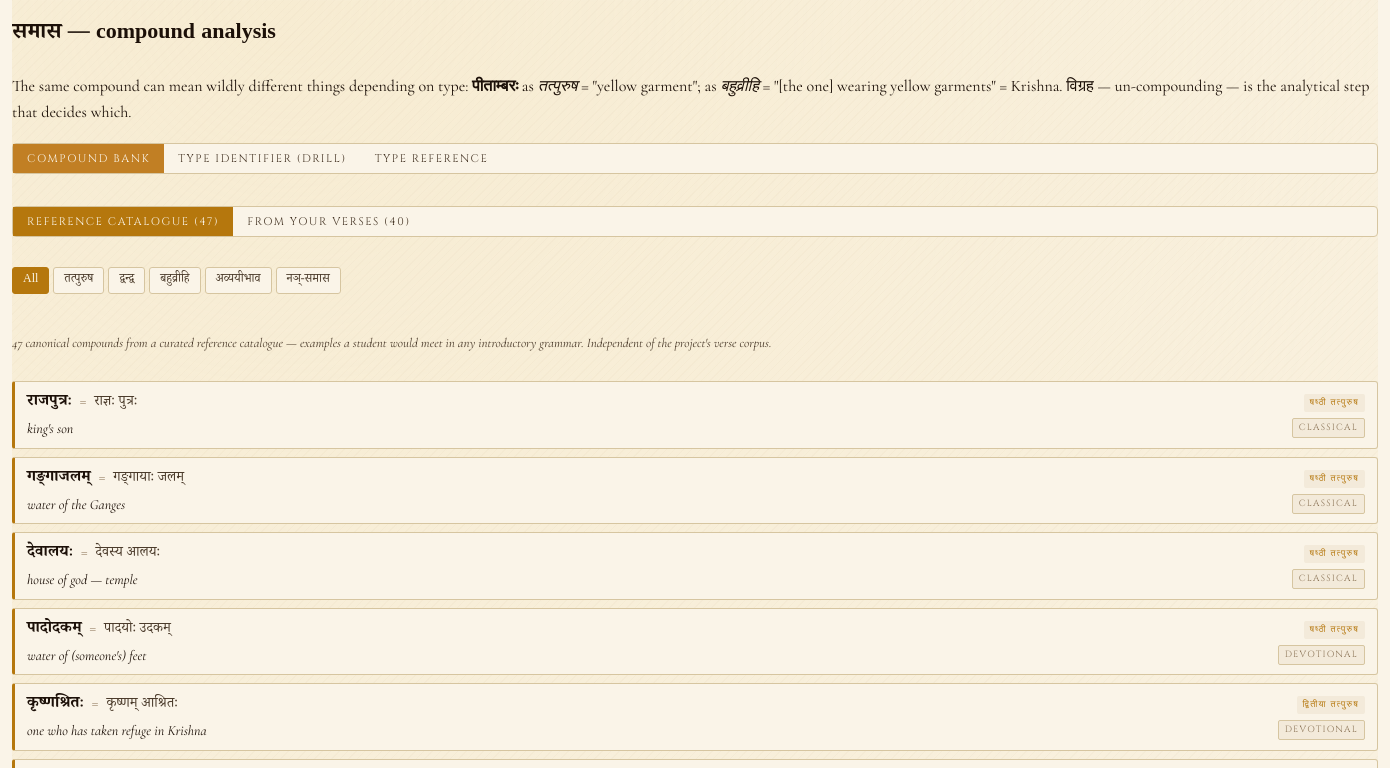
Scenario: Samasa — Type Identifier drill › picking the correct type marks .is-correct and increments score
This screenshot has width=1390, height=768.
Click the button "Type identifier (drill)" at point(262, 159), box [164, 144, 361, 173]
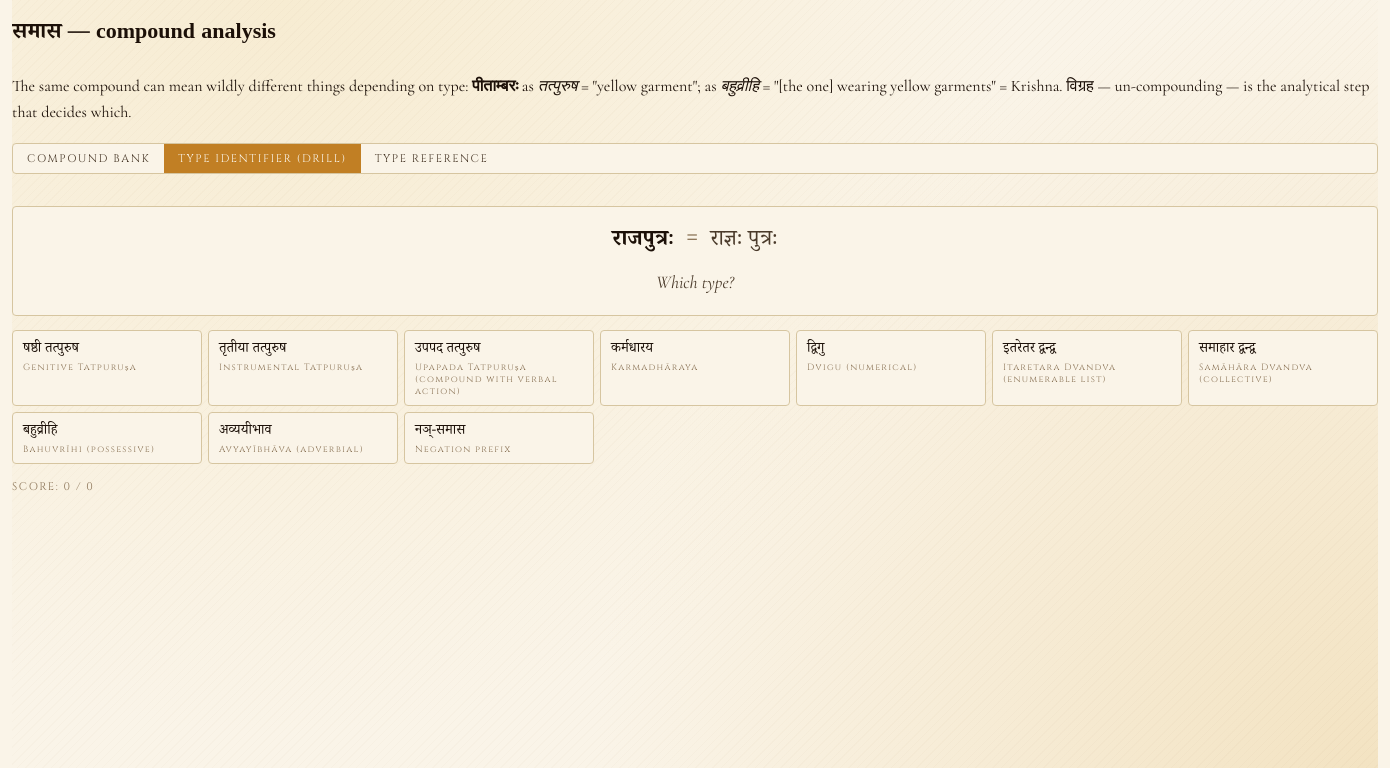
Now the text "Score: 0 / 0" is shown, box [12, 479, 94, 494]
Now the button with class "drill-option" that starts with "षष्ठी तत्पुरुष" is shown
Click the button with class "drill-option" that starts with "षष्ठी तत्पुरुष" at point(107, 368), box [12, 330, 202, 406]
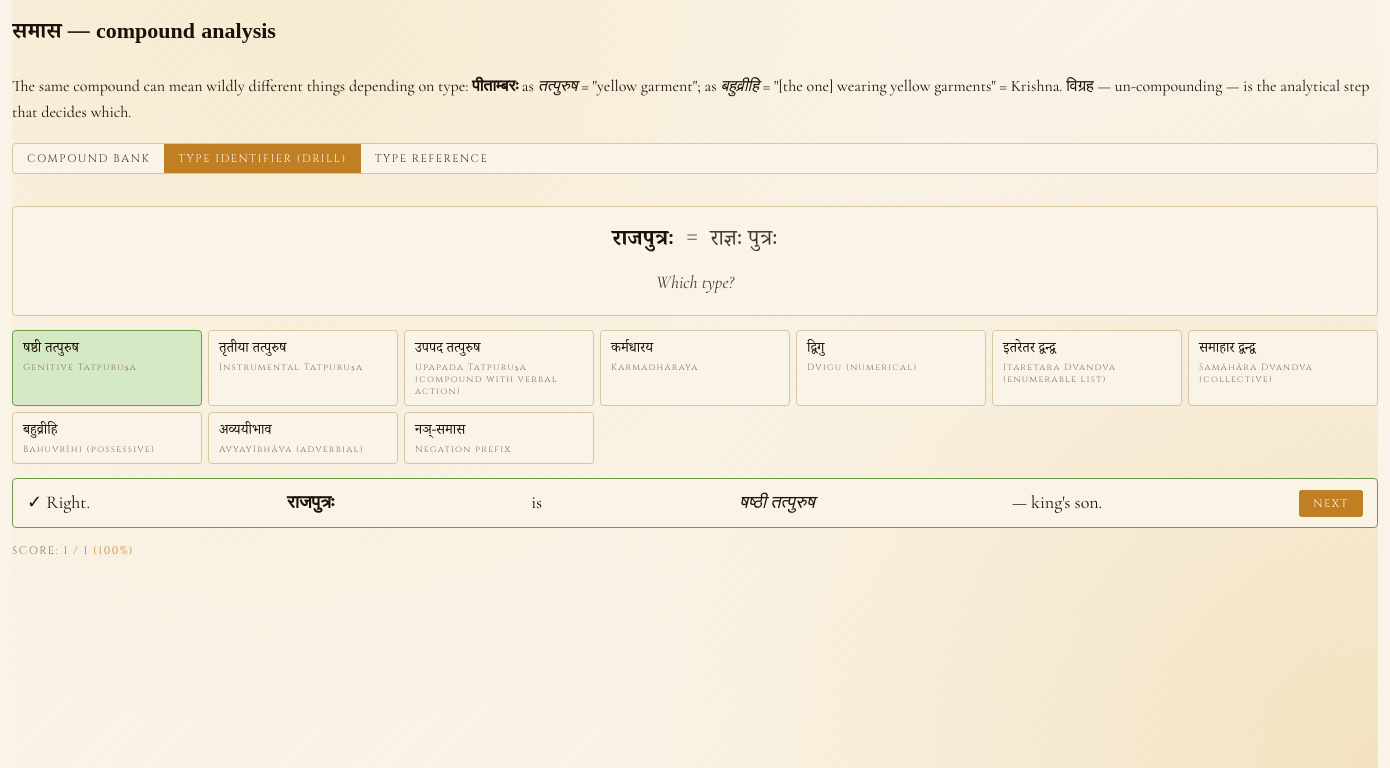
Now the text "Score: 1 / 1 (100%)" is shown, box [12, 543, 134, 558]
Now the text "✓ Right. राजपुत्रः is षष्ठी तत्पुरुष — king's son. Next" is shown, box [12, 478, 1378, 528]
